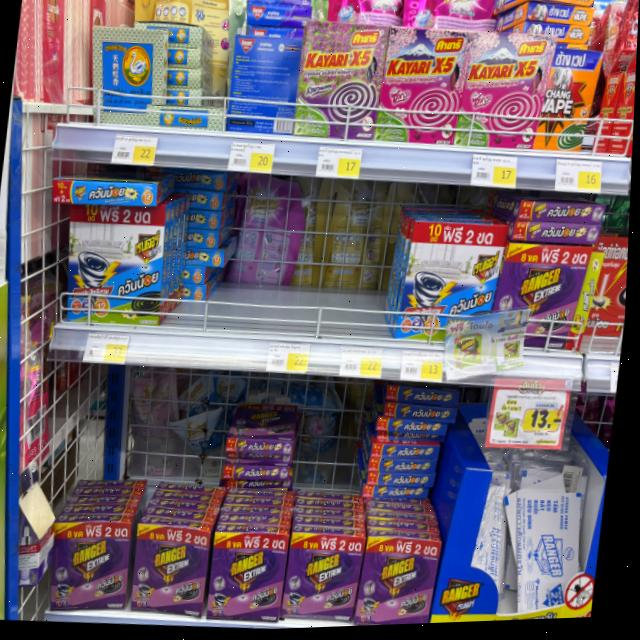empty_shelf: (170, 171, 405, 340)
